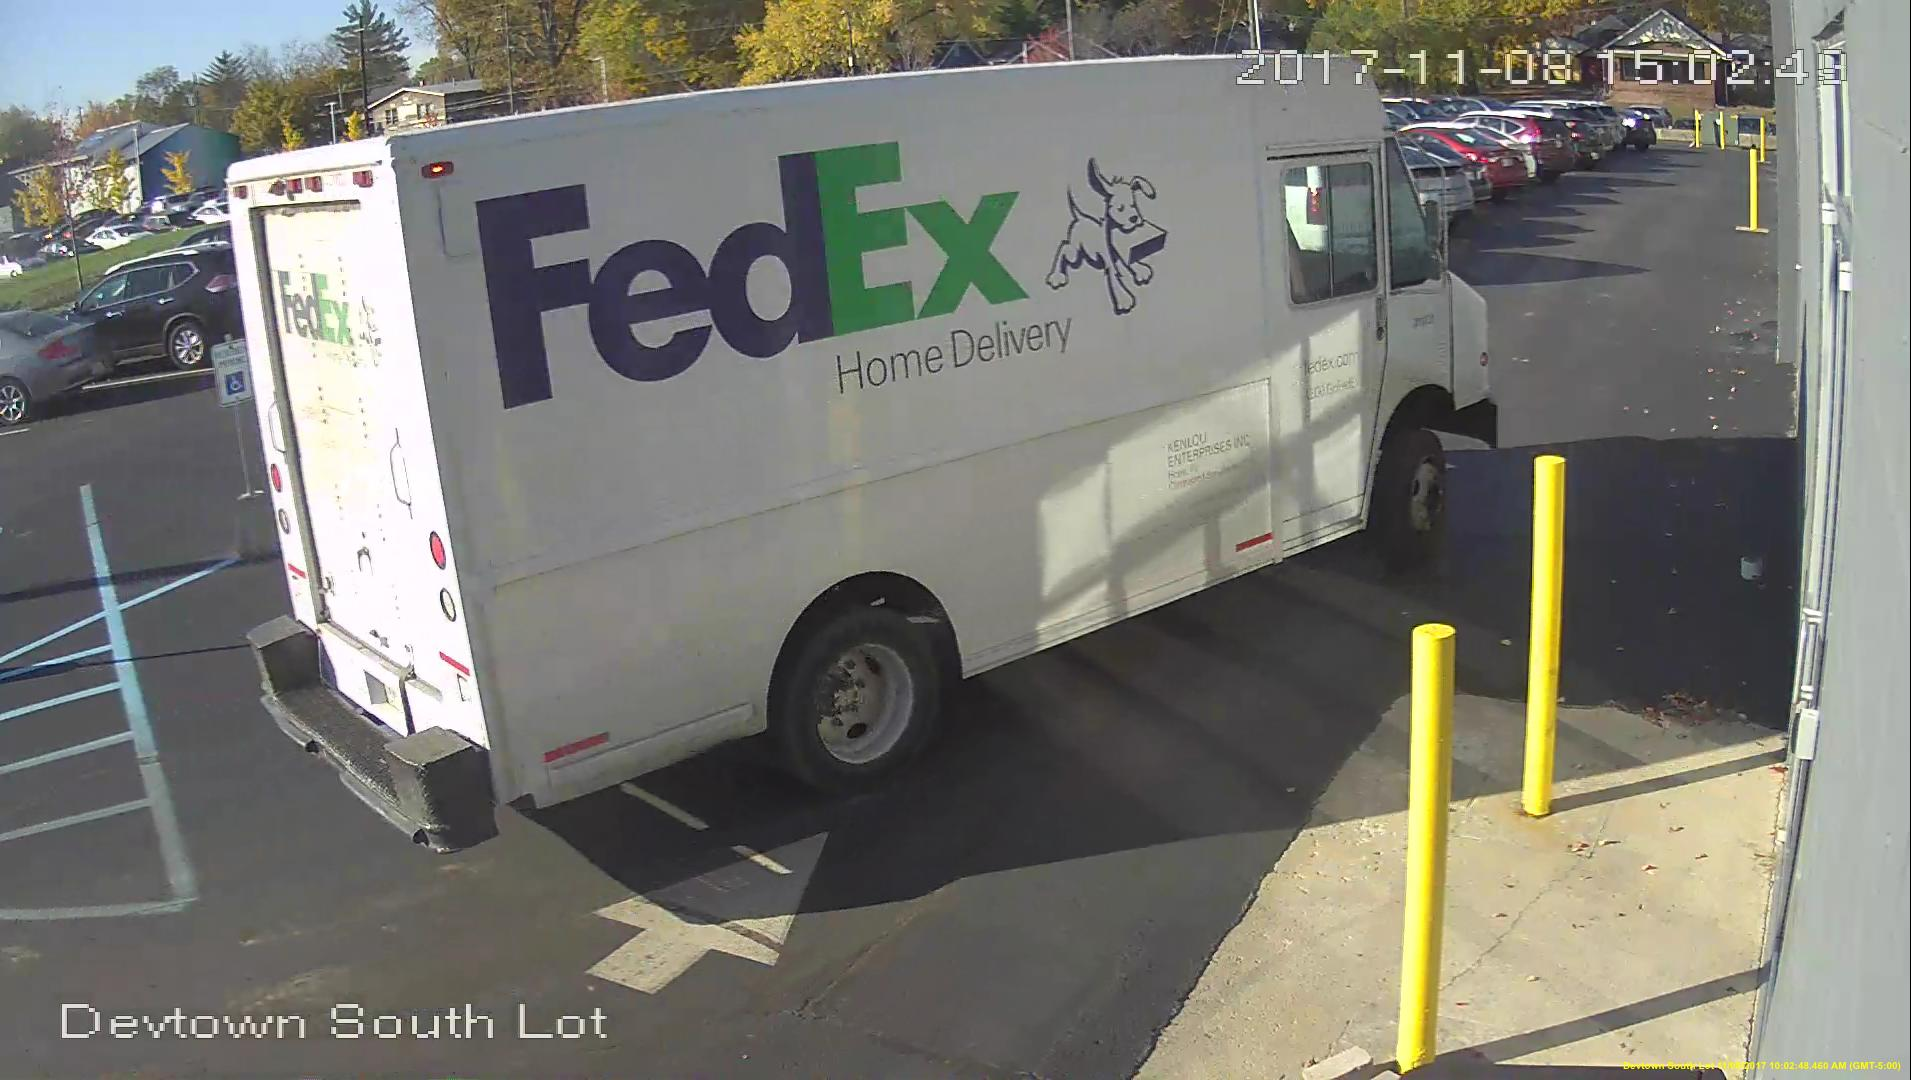fedex_truck: (218, 58, 1503, 860)
